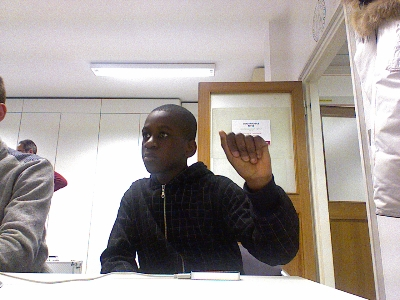石头: (216, 128, 273, 182)
